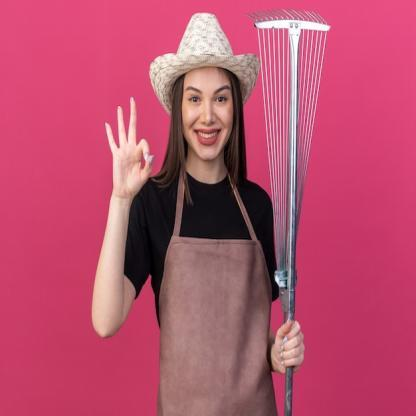ok: (103, 95, 155, 201)
